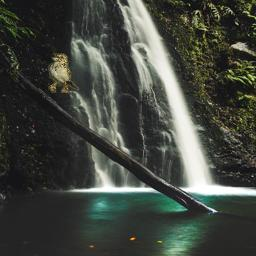Sparrow: (48, 53, 80, 93)
